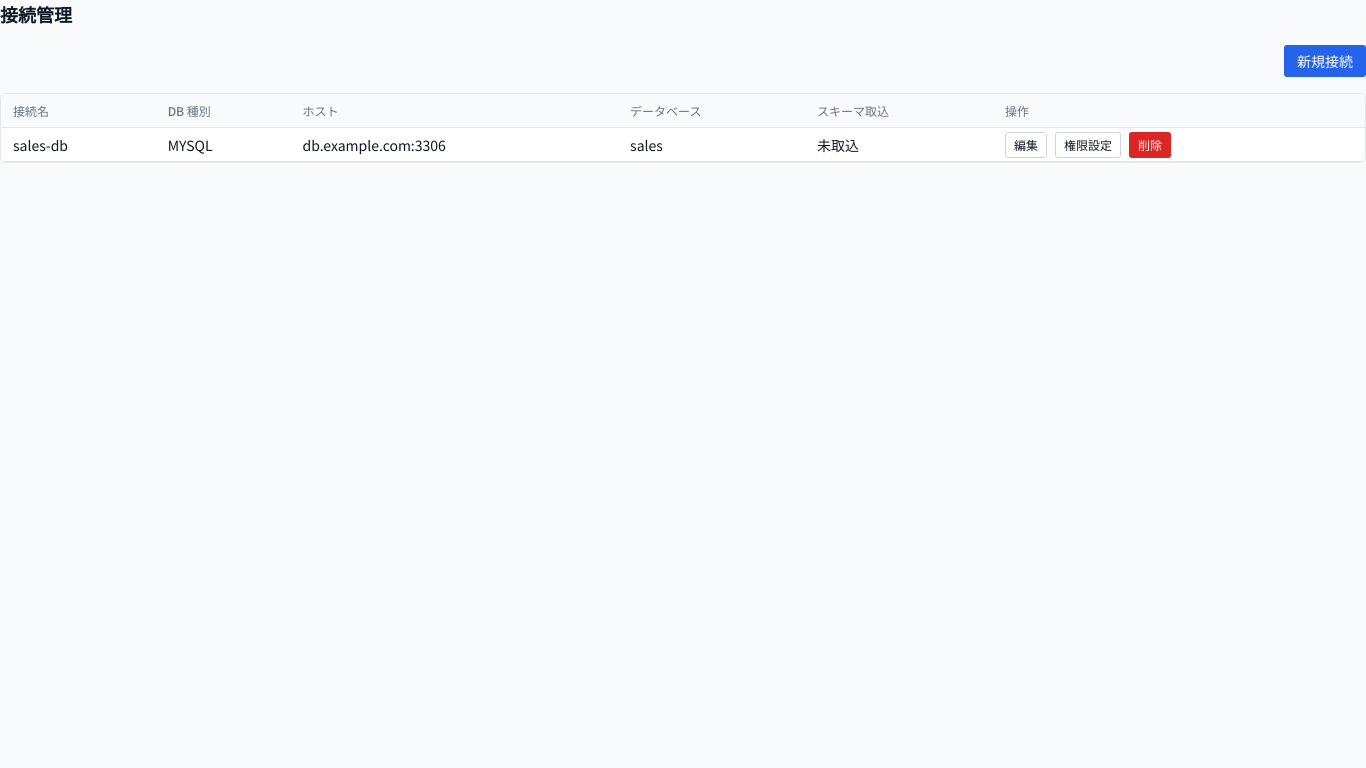
Test case: ConnectionListPage › 削除は確認ダイアログを経てDELETEする
Click the button "削除". click: (1150, 145)
box: [1129,132,1171,158]
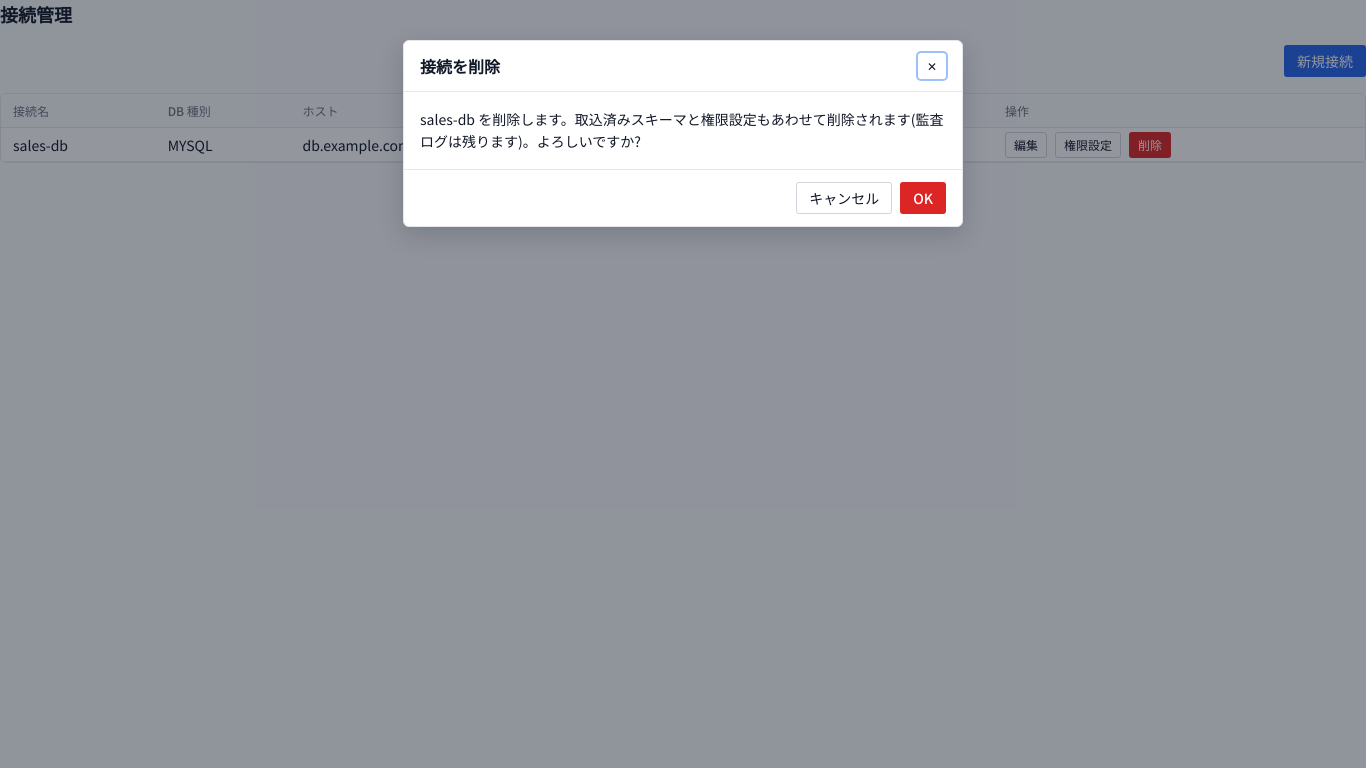
Now the text "sales-db を削除します。取込済みスキーマと権限設定もあわせて削除されます(監査ログは残ります)。よろしいですか?" is shown, box [420,109,944,151]
Click the button "OK". click: (923, 198)
box: [900,182,946,214]
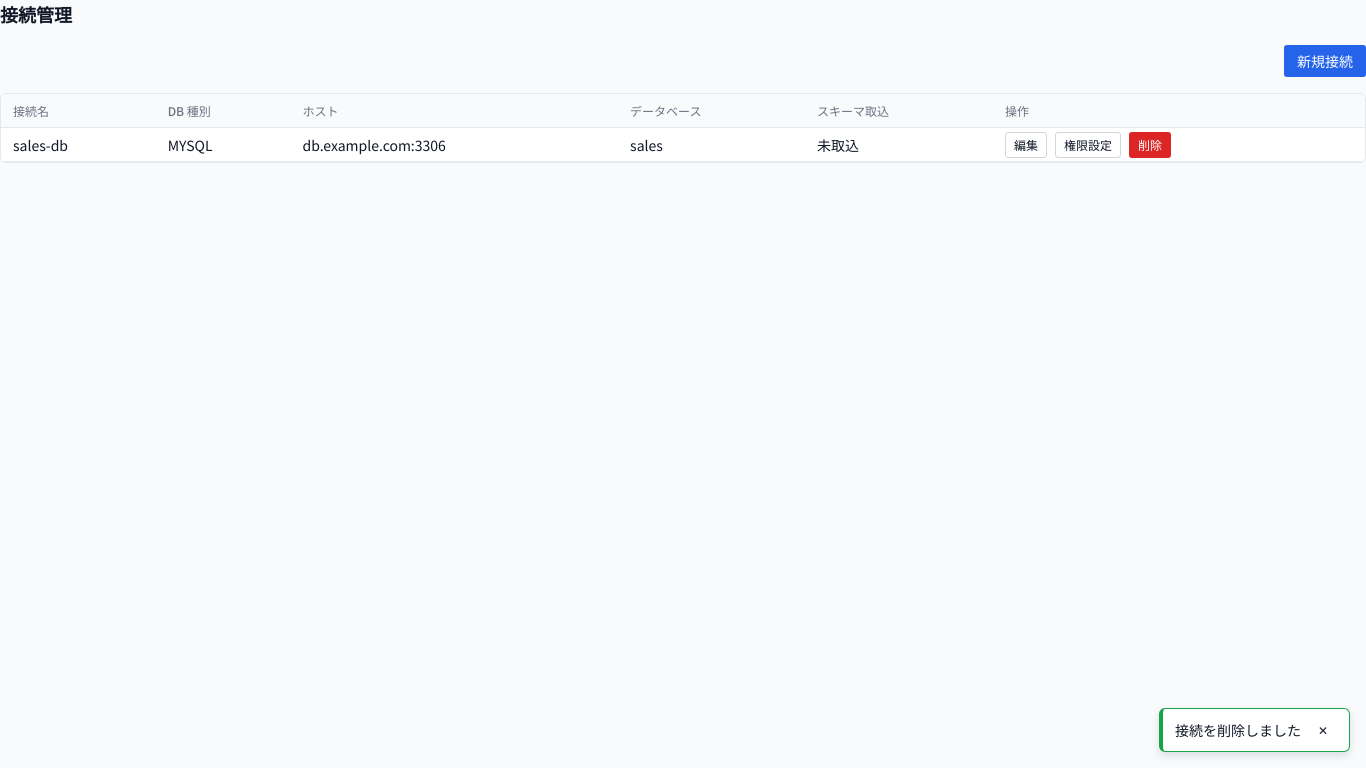
Now the text "接続を削除しました" is shown, box [1175,719,1301,741]
